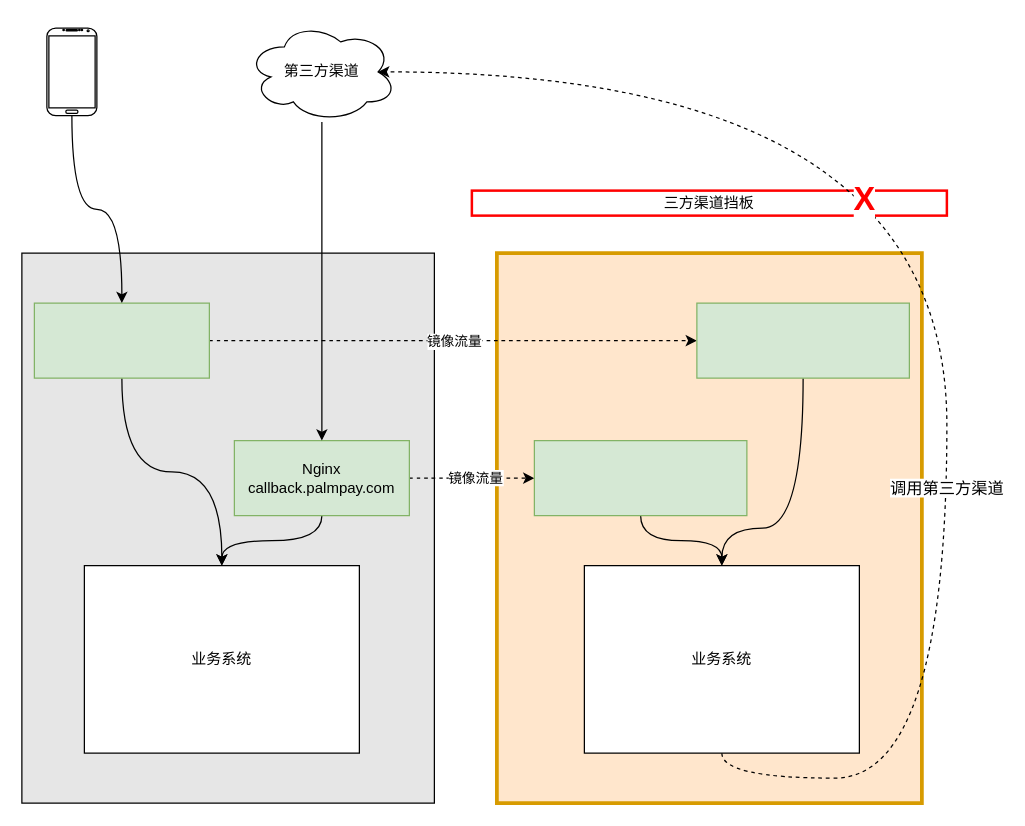
This 1025x826 diagram has some shape labels left out. The shapes that lost their labels are listed below. From the top down, each one's centre as x and y in pixels, then its label:
(121,340): Nginx xxx.palmpay.com
(802,340): Nginx mirror.xxx.palmpay.com
(640,477): Nginx mirror.callback.palmpay.com
